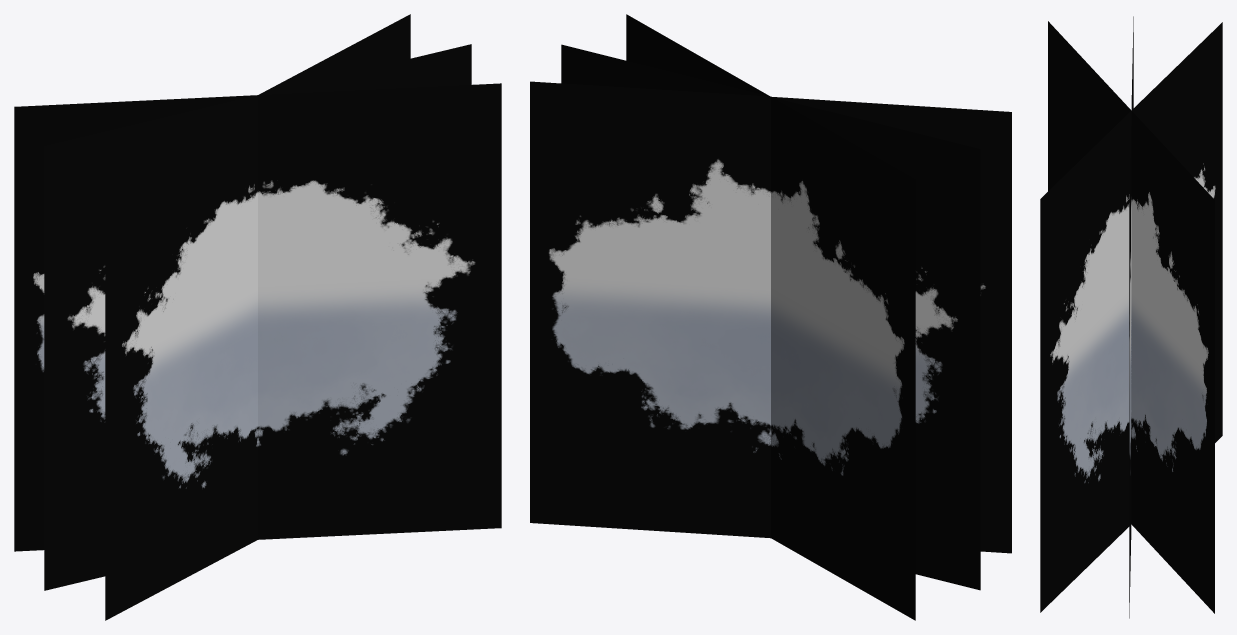
Rendered from model-light.glb.
3 views of the same model, side by side, from view 1: azimuth 30°, elevation 25°; view 2: azimuth 150°, elevation 25°; view 3: azimuth 270°, elevation 25° (orthographic). The views are drawn at different scales.
Visible parts, largest first — view 1: cloud; view 2: cloud; view 3: cloud.
Boxes of the visible parts, left/top/right/bottom form: cloud: left=14, top=14, right=501, bottom=620; cloud: left=530, top=14, right=1011, bottom=620; cloud: left=1040, top=16, right=1222, bottom=618.
Bounding box in the file's own units: 4.17 × 4.17 × 1.66.
Materials: 3 (3 with a texture image).
